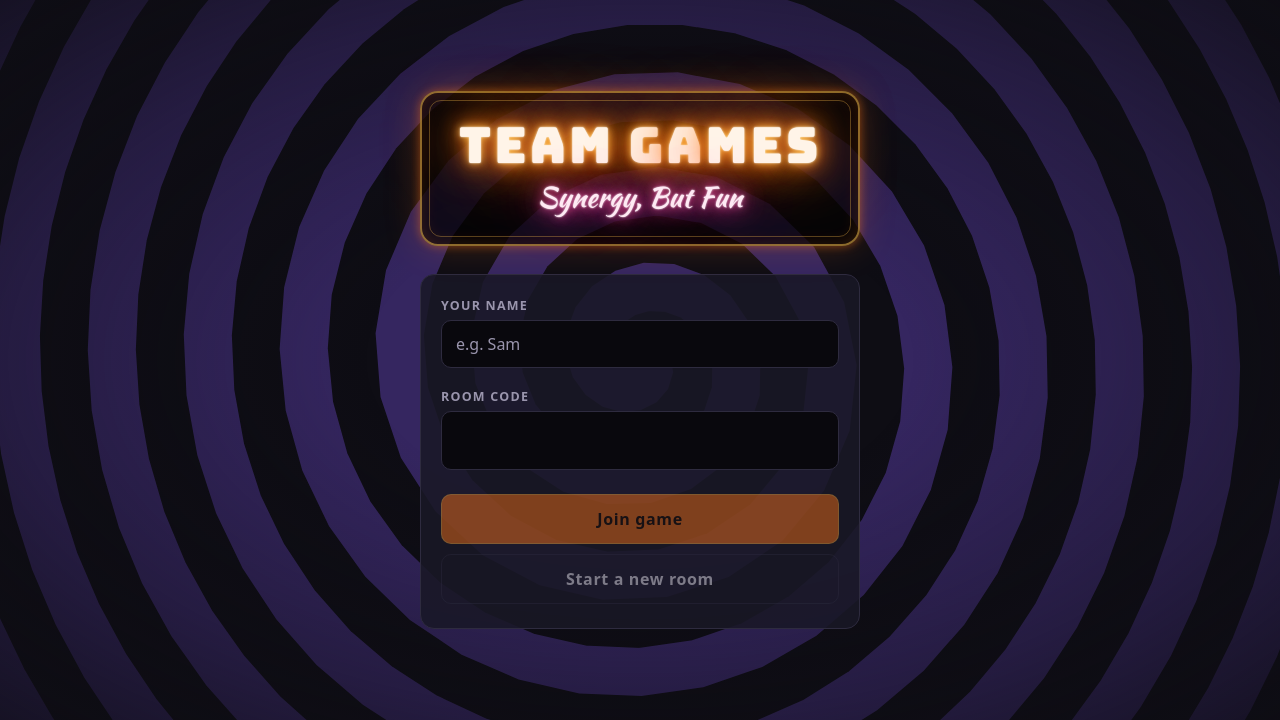
it: JoinScreen › disables join until both fields are filled
The image size is (1280, 720).
Check: the button "Join game" is disabled, box [441,494,839,544]
Type "AB2CD3" into the field labelled "Room code" at (640, 441), box [441,411,839,470]
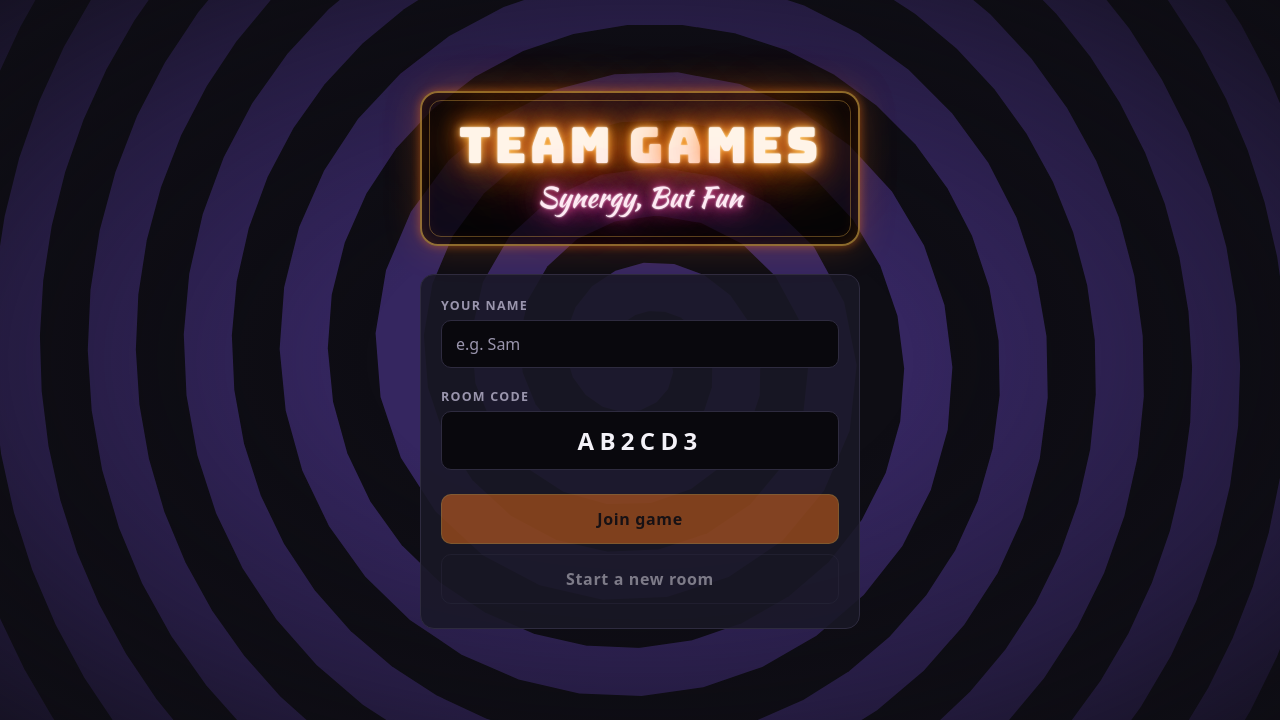
Check: the button "Join game" is disabled, box [441,494,839,544]
Type "Jocelyn" into the field labelled "Your name" at (640, 344), box [441,320,839,368]
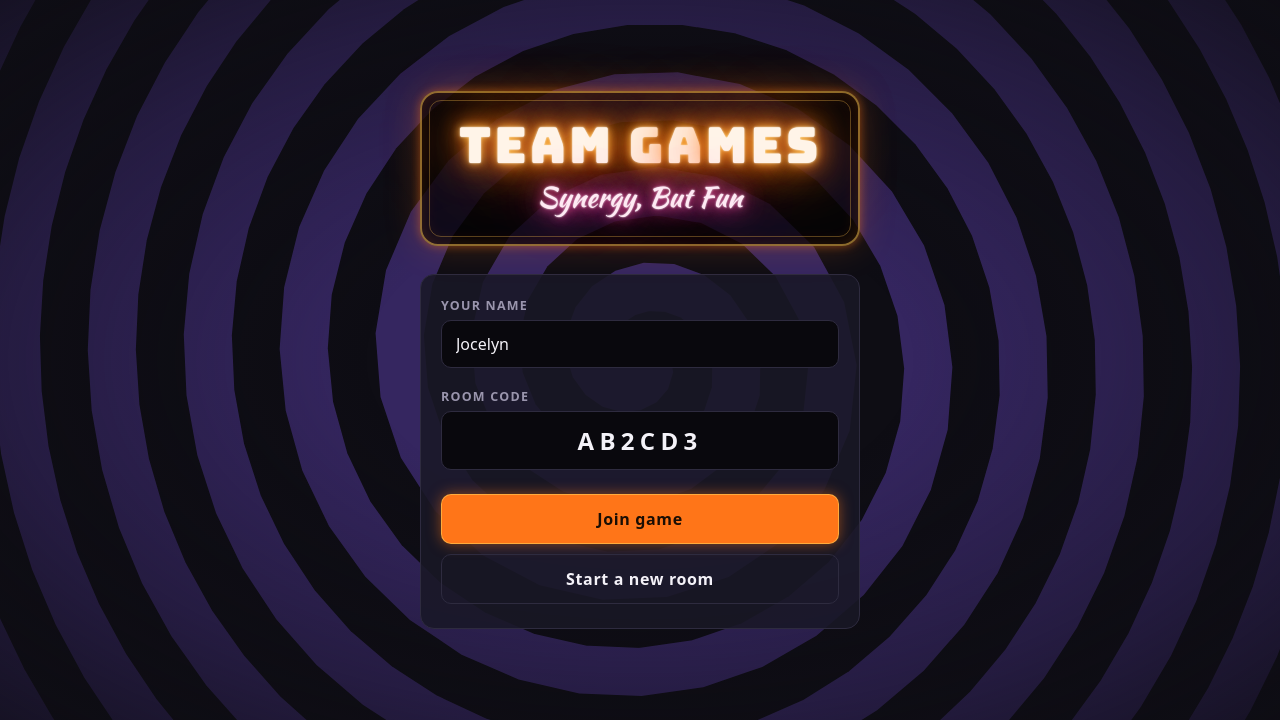
Check: the button "Join game" is enabled, box [441,494,839,544]
